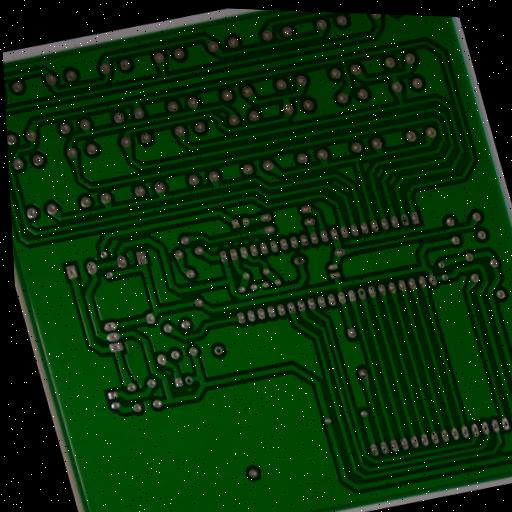missing_hole: (398, 211, 413, 228), (292, 253, 307, 268), (211, 342, 226, 357), (354, 285, 368, 300), (183, 375, 195, 386)
